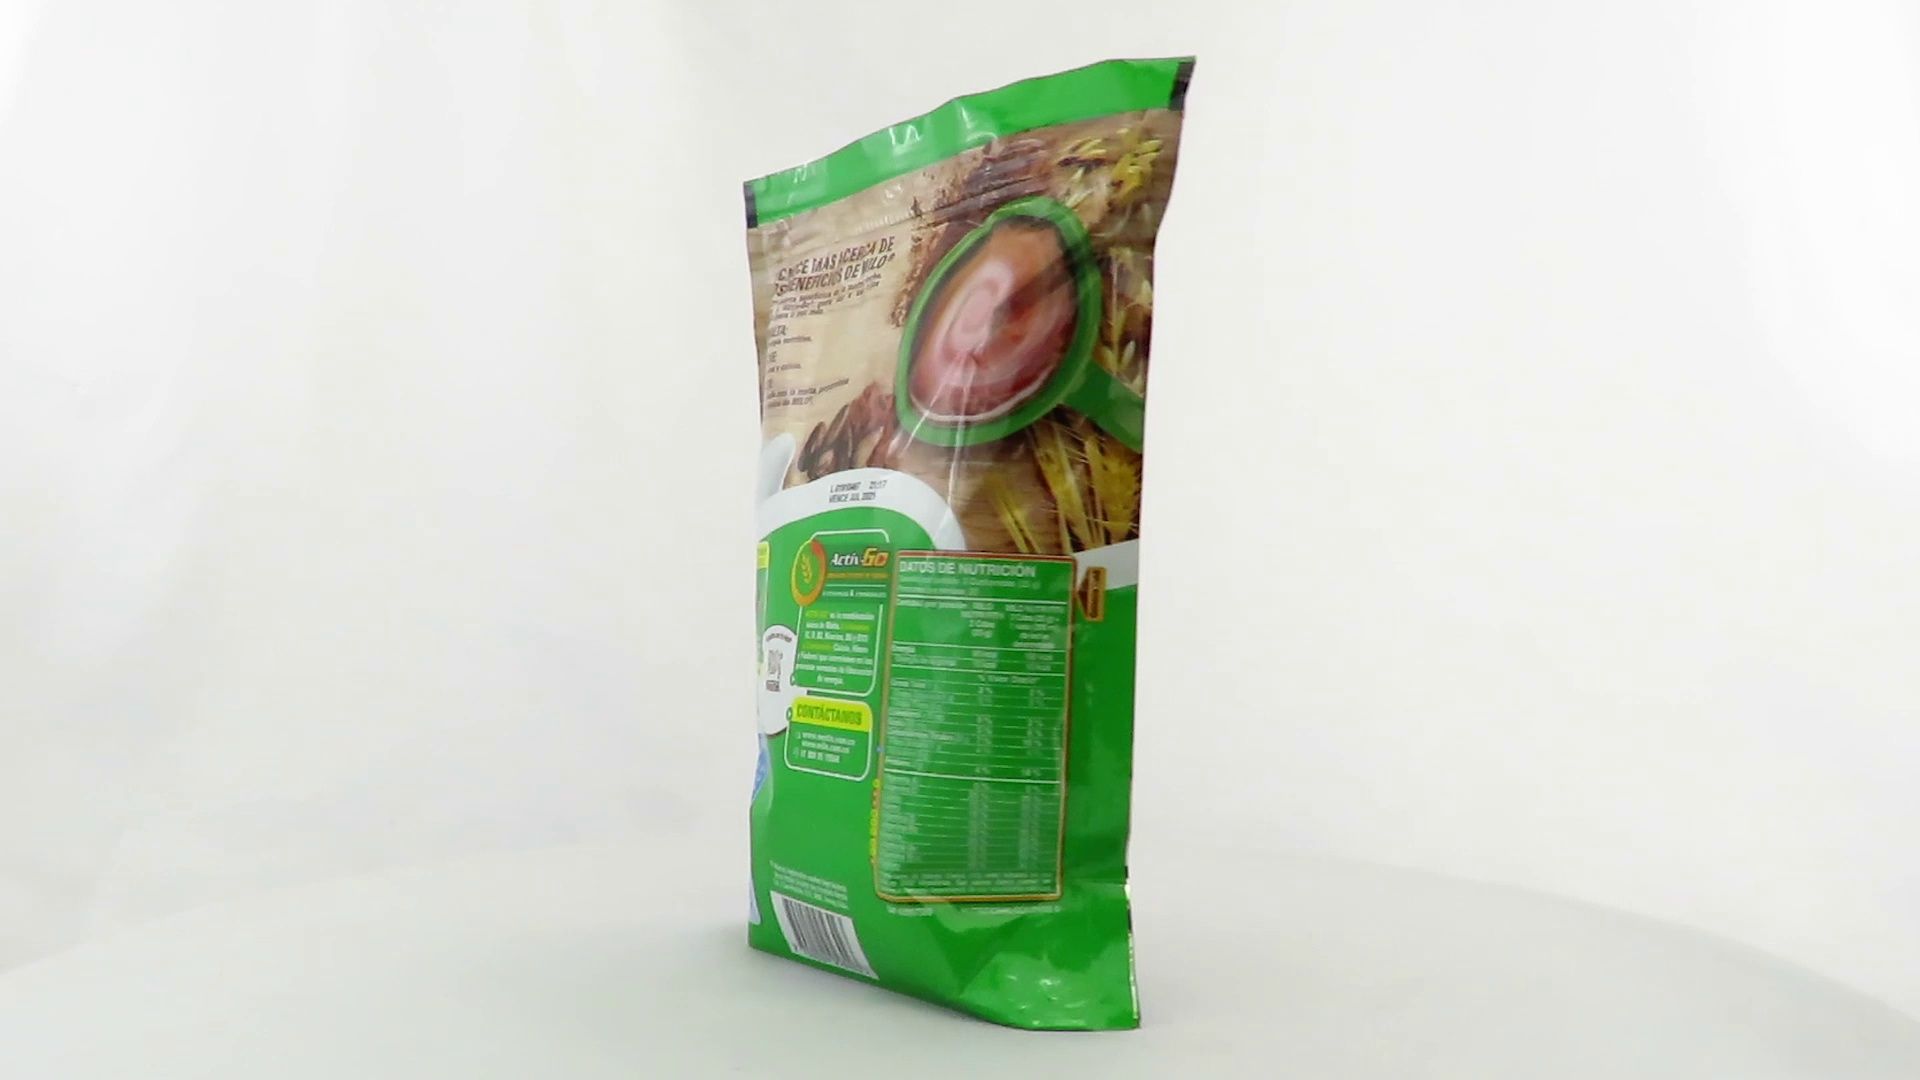COL0170205DYP50000: (738, 50, 1203, 1038)
